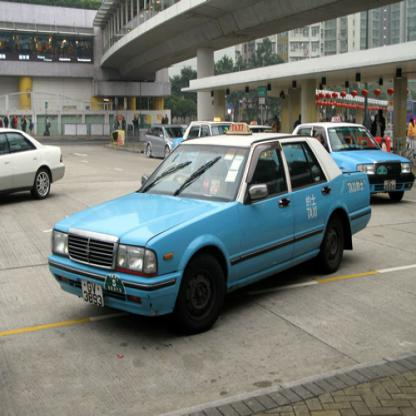taxi: (49, 117, 376, 336)
